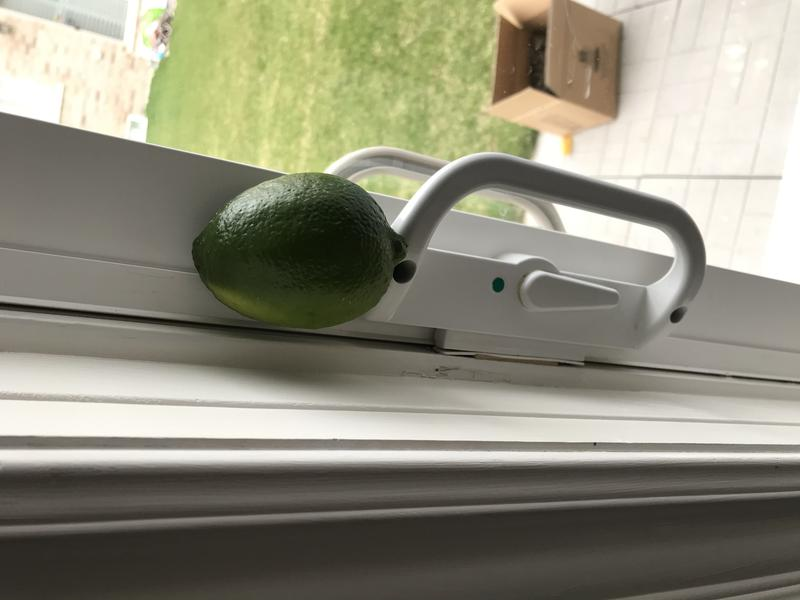lime: (185, 160, 422, 350)
